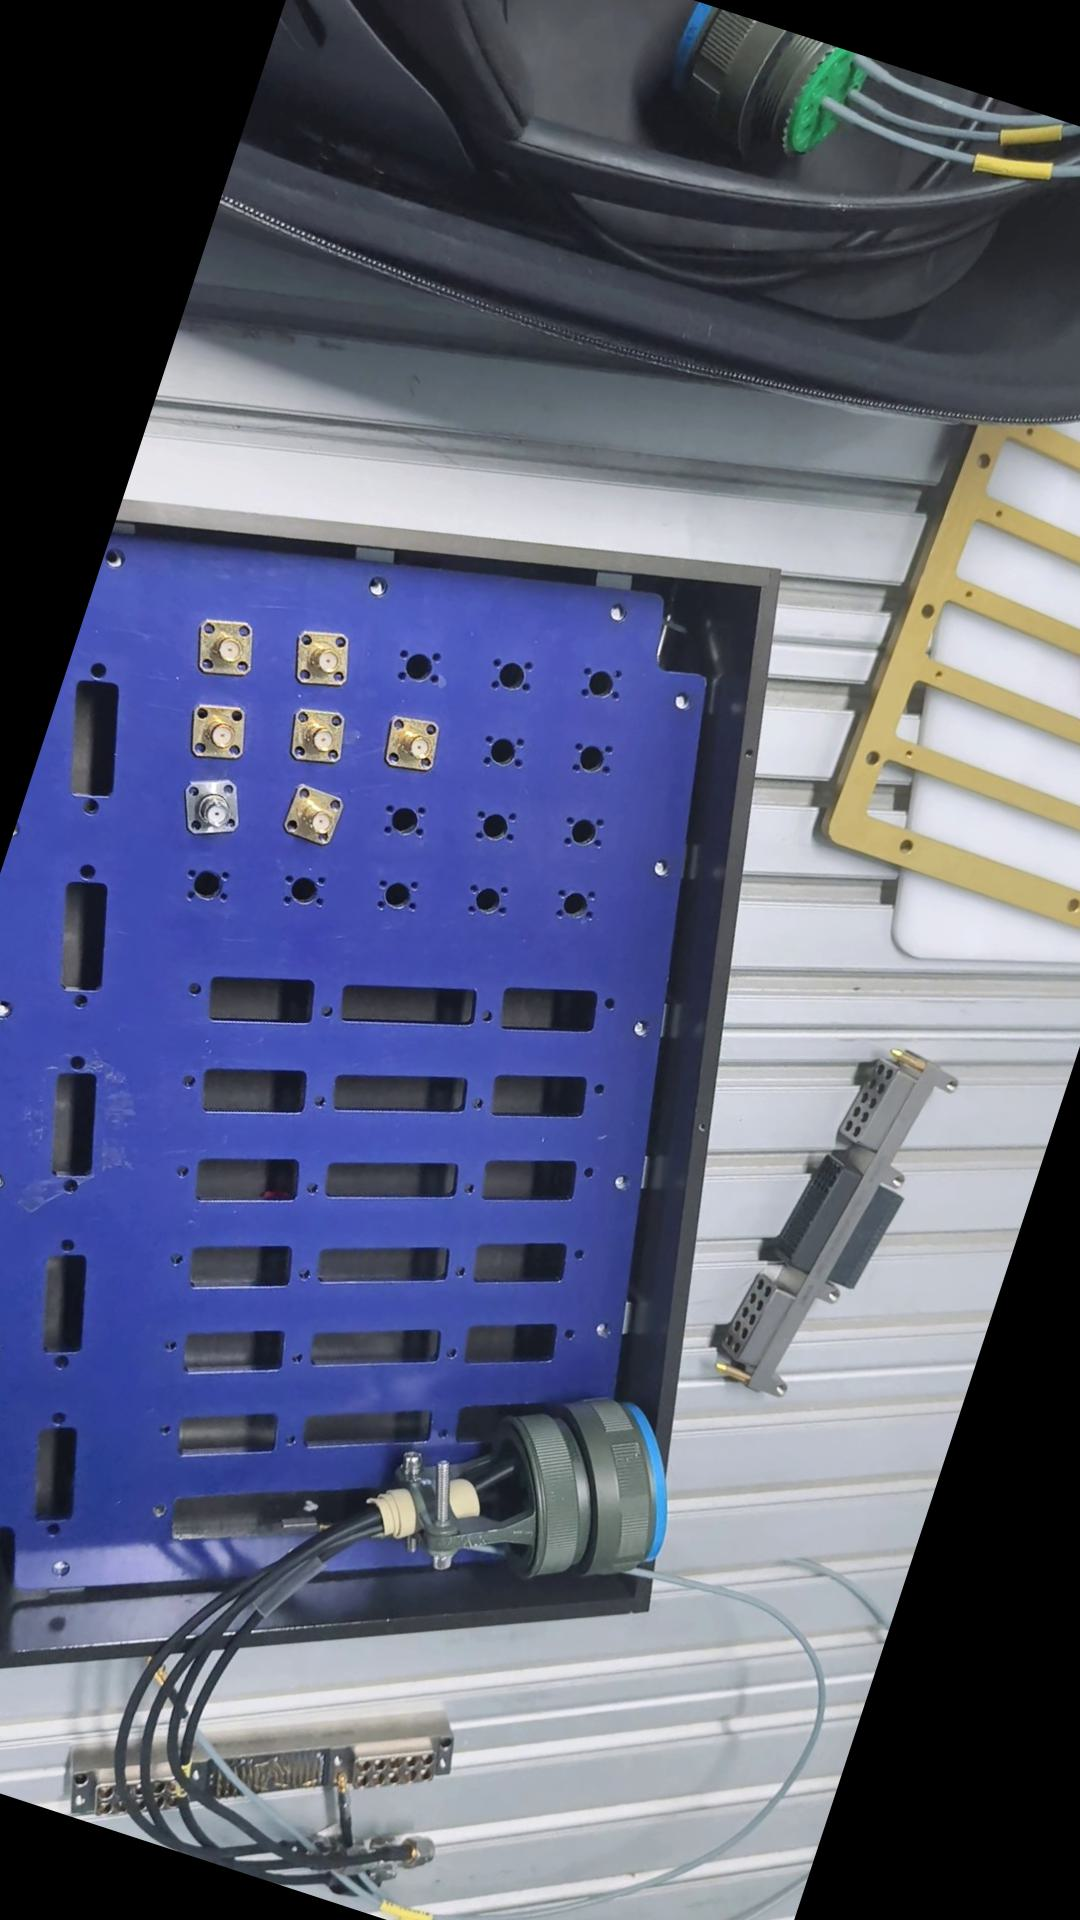SMA: (186, 608, 270, 686), (284, 621, 367, 699), (278, 777, 357, 856), (377, 705, 455, 779), (181, 699, 258, 773), (179, 770, 252, 843), (285, 703, 356, 774)
